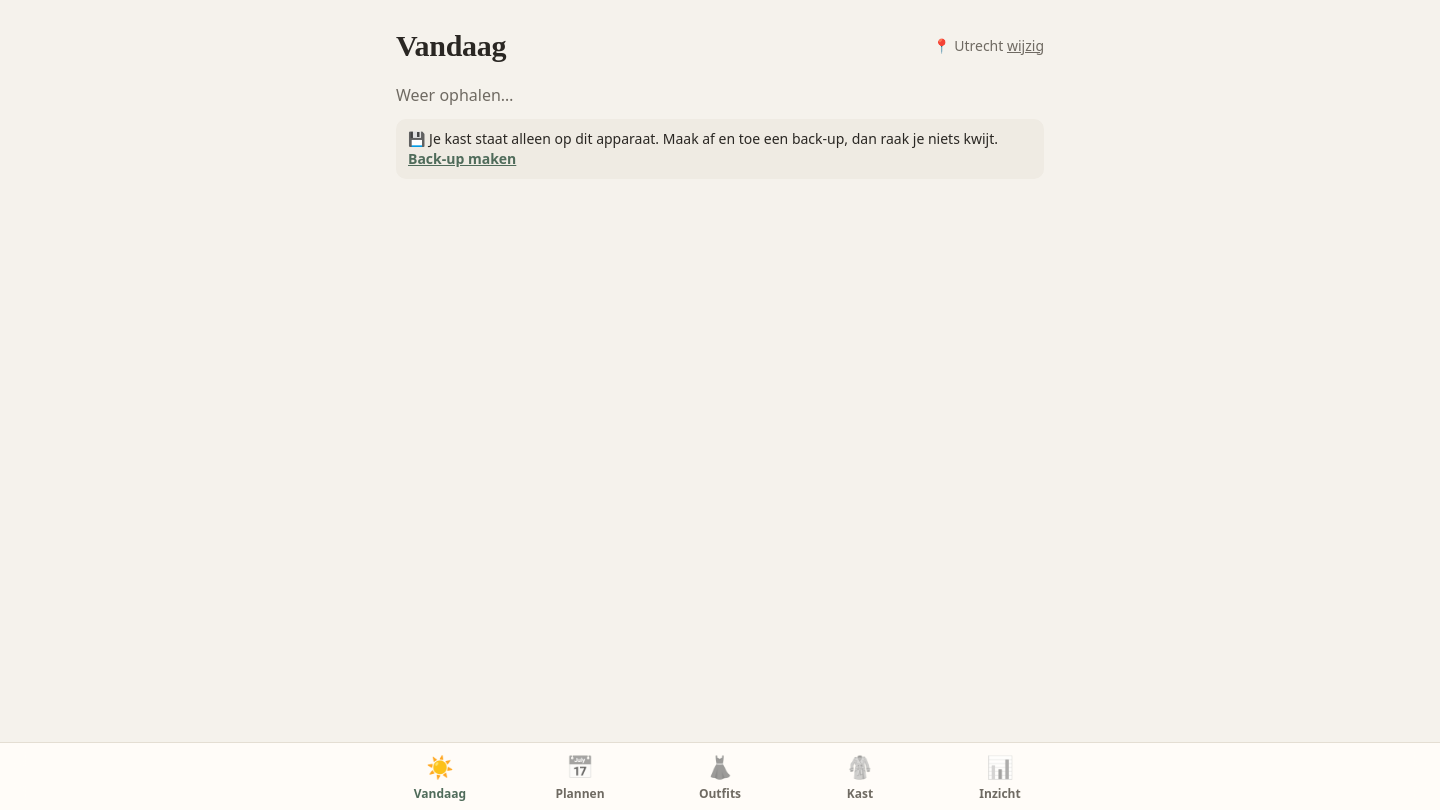
Kast › zoekt op naam en kleur
Click the button "🧥 Kast". click: [860, 776]
box: x1=790 y1=743 x2=930 y2=809
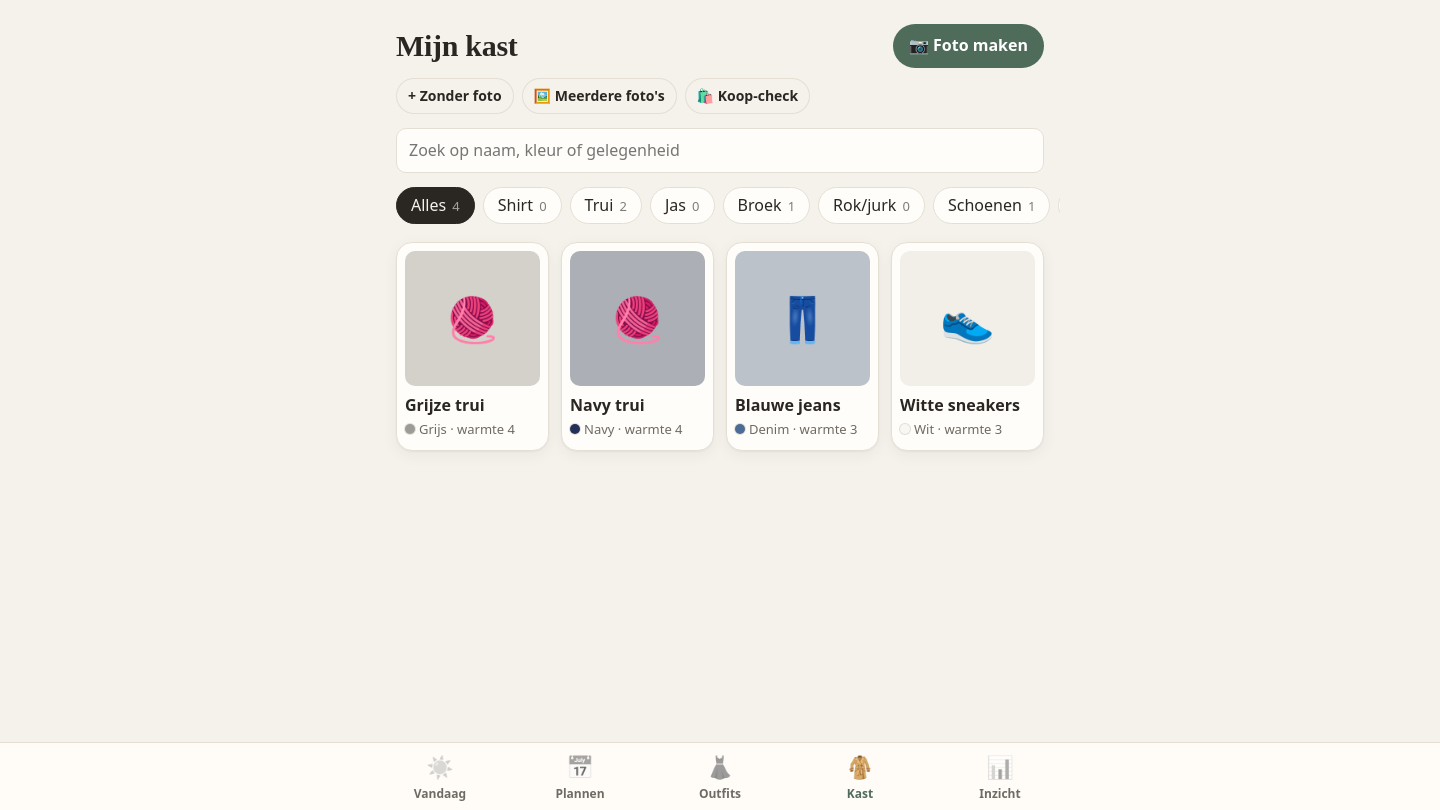
Type "navy" into the search field named "Zoeken in je kast". click: [720, 151]
box: x1=396 y1=128 x2=1044 y2=173
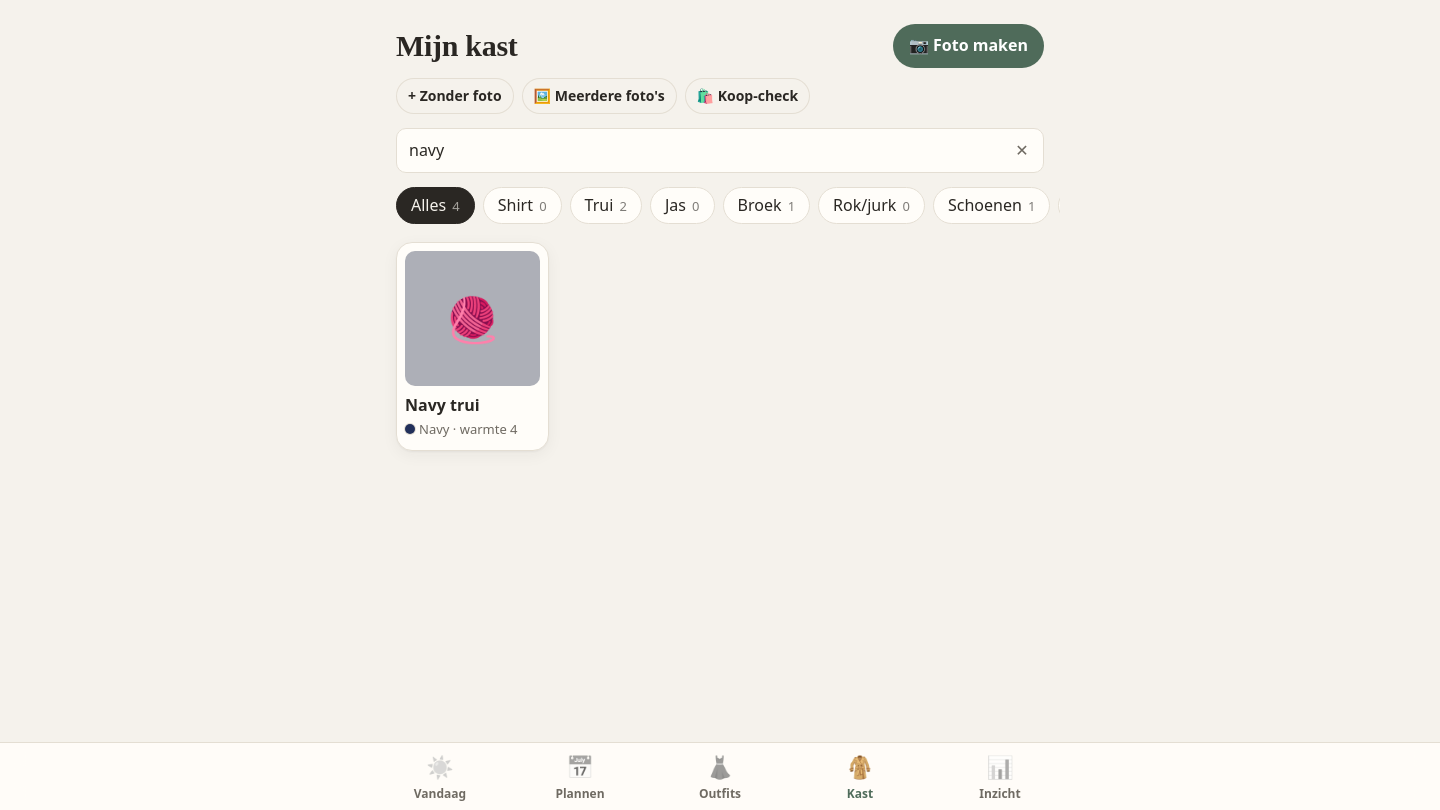
Replace the text in the search field named "Zoeken in je kast" with "trui grijs". click: [720, 151]
box: x1=396 y1=128 x2=1044 y2=173
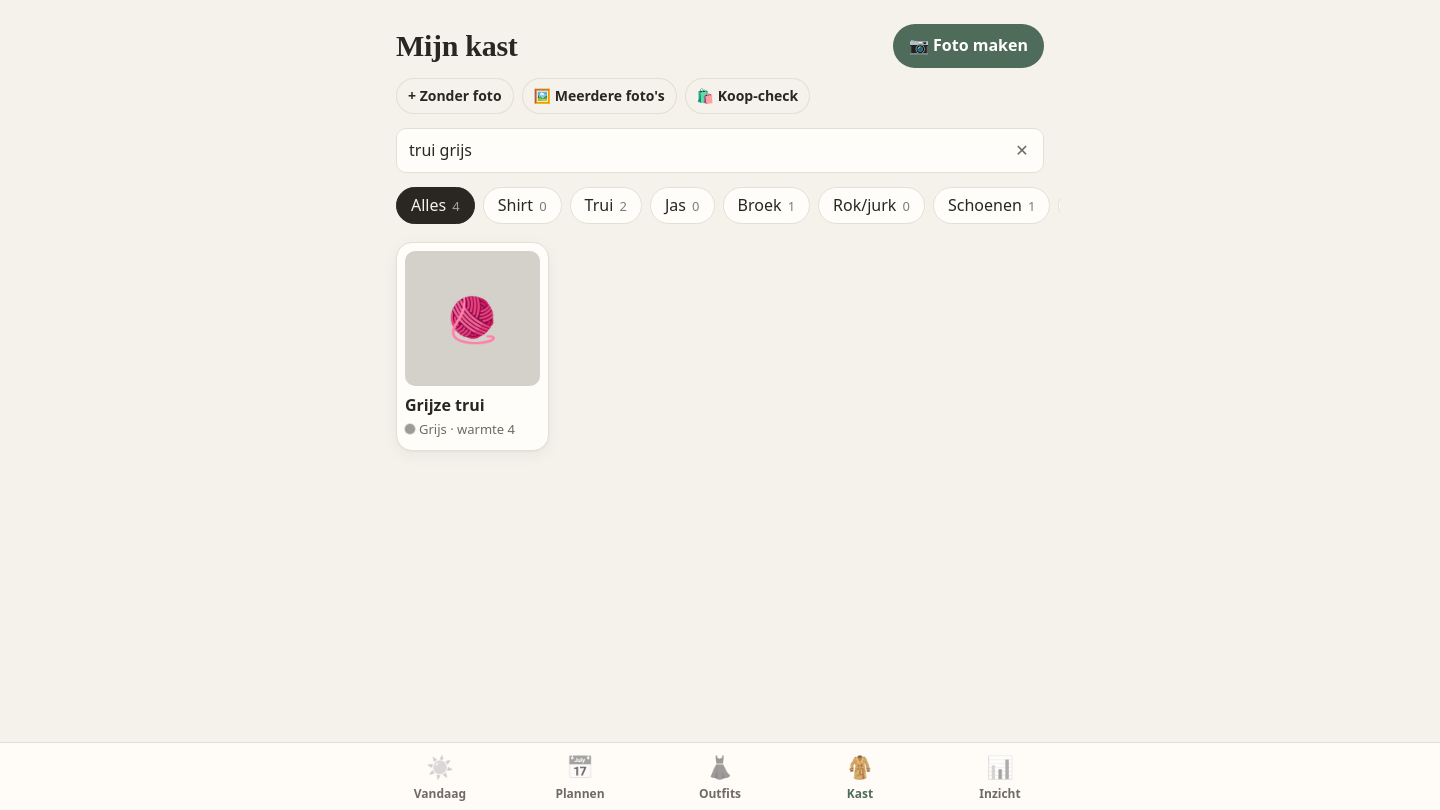
Replace the text in the search field named "Zoeken in je kast" with "paars". click: [720, 151]
box: x1=396 y1=128 x2=1044 y2=173
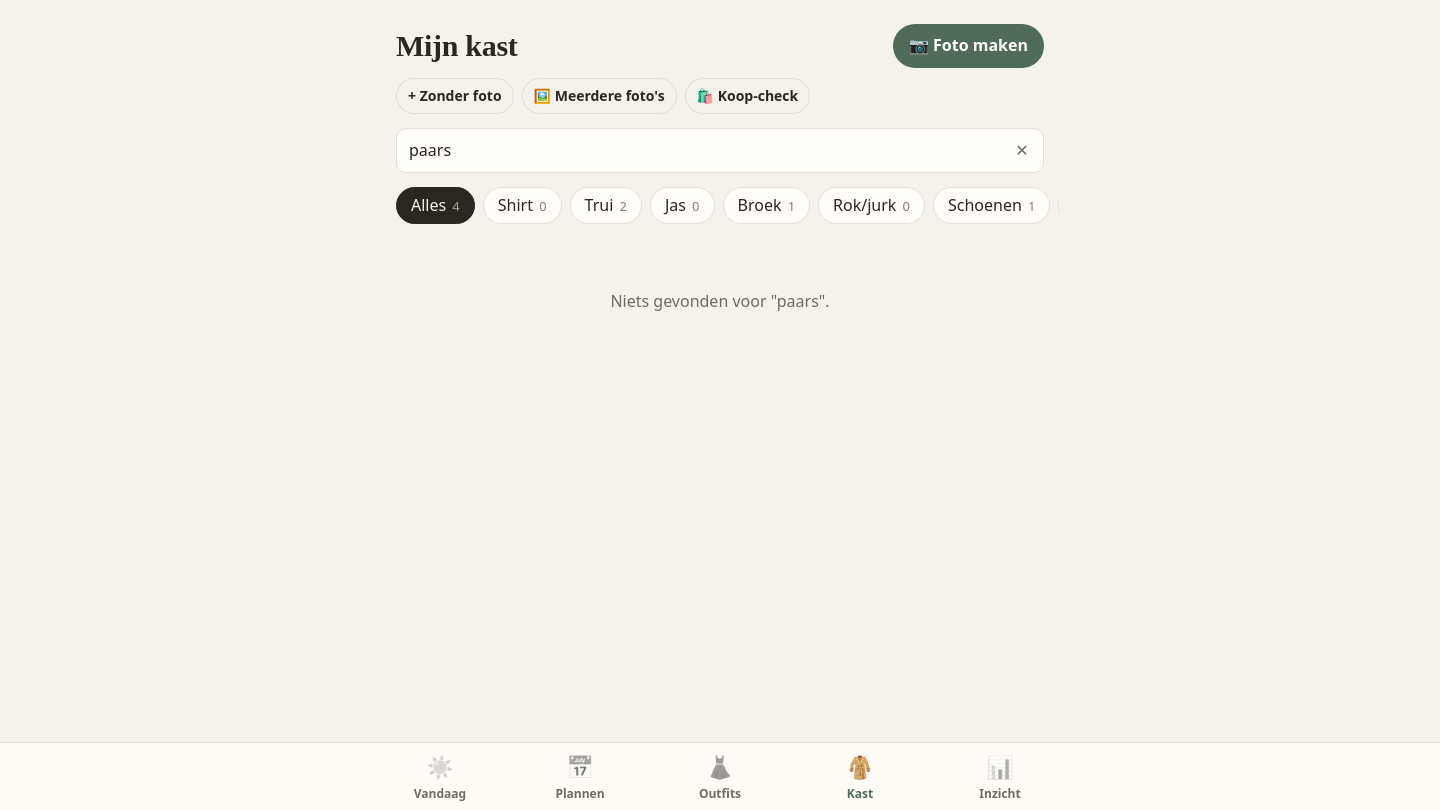
Expected: the text "Niets gevonden voor \"paars\"." is shown, x1=610 y1=290 x2=830 y2=312
